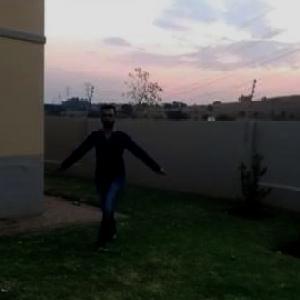land: (65, 99, 172, 237)
